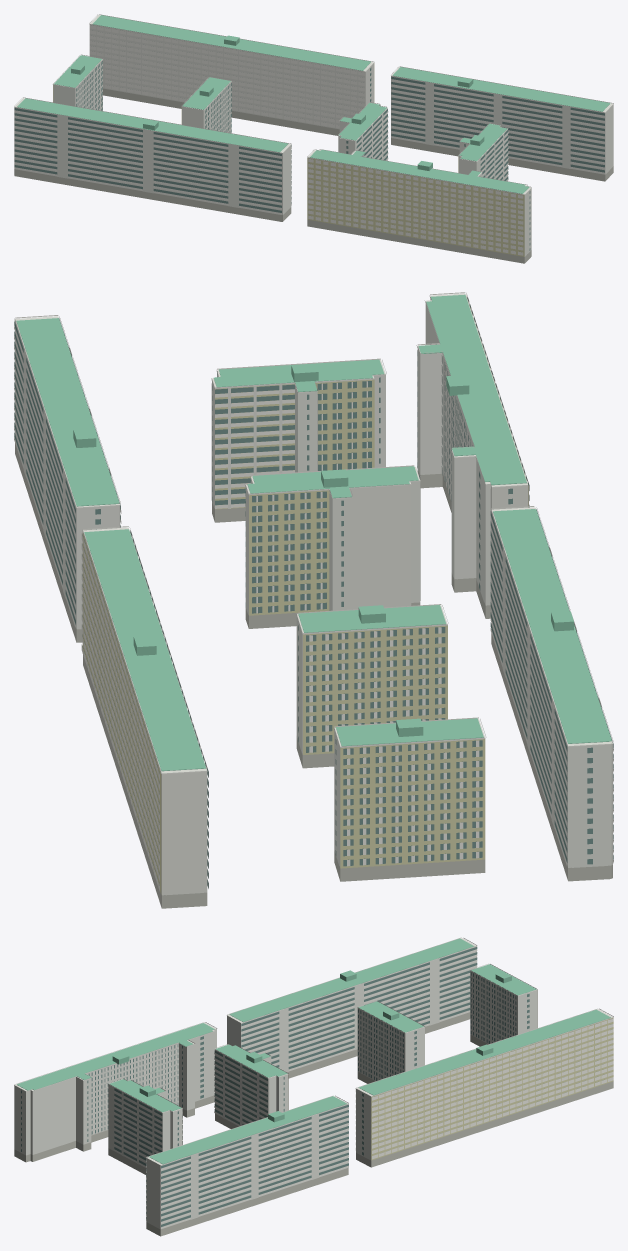
The model's file is representative-a15088918.glb.
3 renders of one model, top to bottom at view 1: azimuth 30°, elevation 25°; view 2: azimuth 150°, elevation 25°; view 3: azimuth 270°, elevation 25°, orthographic. The views are drawn at different scales.
Visible parts, largest first — view 1: A15088918_trim001, A15088918_wall001, A15088918_glass001, A15088918_roof001, A15088918_accent001, A15088918_base001; view 2: A15088918_wall001, A15088918_roof001, A15088918_accent001, A15088918_glass001, A15088918_trim001, A15088918_base001; view 3: A15088918_wall001, A15088918_trim001, A15088918_glass001, A15088918_roof001, A15088918_accent001, A15088918_base001.
Boxes of the visible parts, <box> form: A15088918_trim001: <box>14,14,613,255</box>; A15088918_wall001: <box>14,15,613,256</box>; A15088918_glass001: <box>14,61,604,250</box>; A15088918_roof001: <box>17,15,610,193</box>; A15088918_accent001: <box>53,63,524,256</box>; A15088918_base001: <box>14,88,613,263</box>; A15088918_wall001: <box>15,293,612,895</box>; A15088918_roof001: <box>16,294,611,771</box>; A15088918_accent001: <box>82,295,528,894</box>; A15088918_glass001: <box>14,297,613,888</box>; A15088918_trim001: <box>14,292,613,891</box>; A15088918_base001: <box>15,443,612,908</box>; A15088918_wall001: <box>14,938,613,1229</box>; A15088918_trim001: <box>14,937,613,1228</box>; A15088918_glass001: <box>21,947,529,1226</box>; A15088918_roof001: <box>17,938,610,1164</box>; A15088918_accent001: <box>288,990,613,1160</box>; A15088918_base001: <box>14,1012,613,1236</box>.
Size of the model in its own units: 247 by 38.5 by 275.
